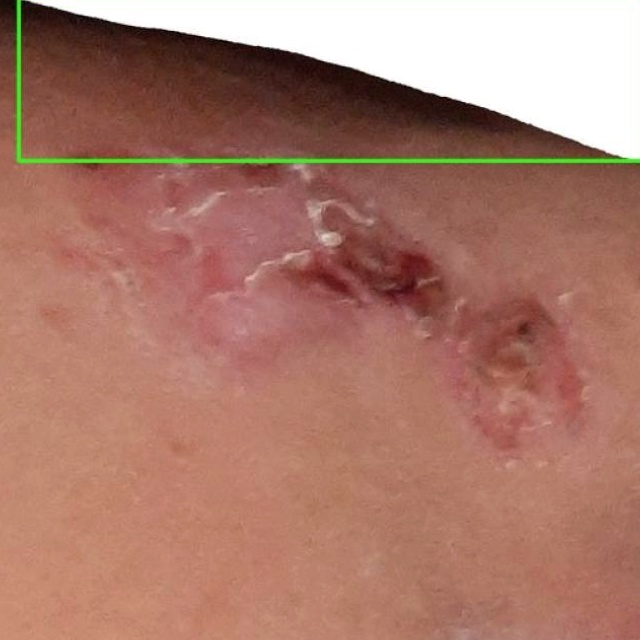Contact Dermatitis: (19, 0, 639, 161)
